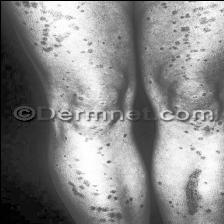Non-Cancerous Skin Condition: (69, 138, 136, 224), (6, 0, 102, 55), (156, 0, 223, 57), (172, 166, 222, 224), (178, 121, 224, 162)
